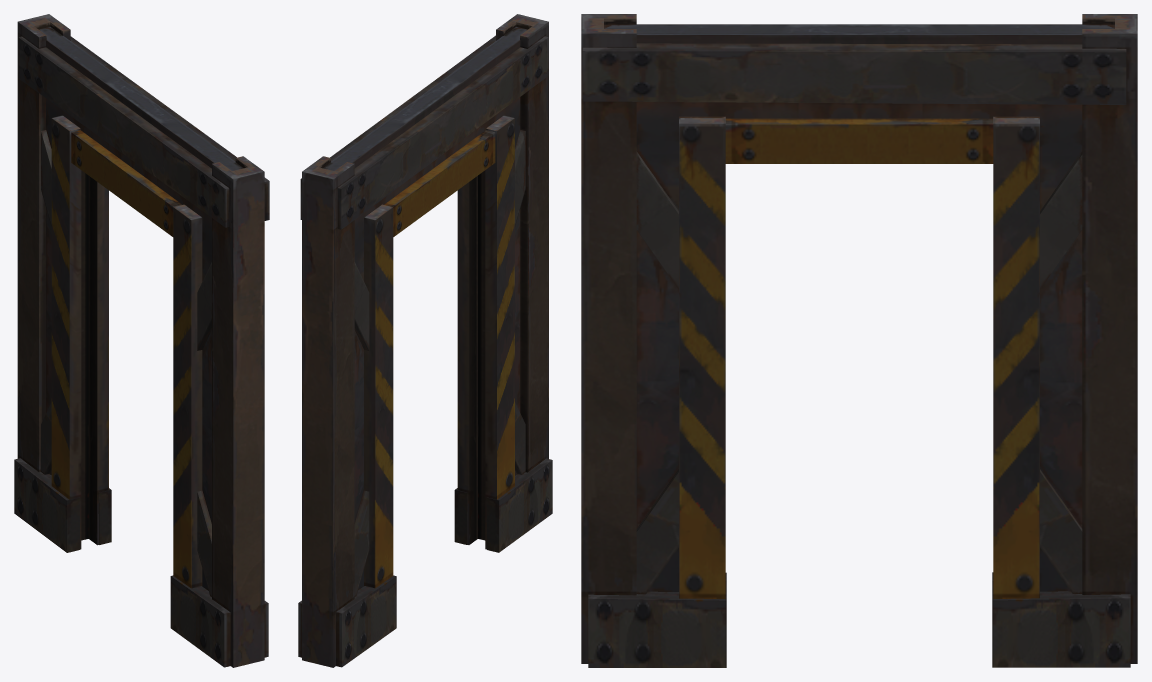
File: Door03_w.FBX
3 views of the same model, side by side, from view 1: azimuth 30°, elevation 25°; view 2: azimuth 150°, elevation 25°; view 3: azimuth 270°, elevation 25° (orthographic). The views are drawn at different scales.
Visible parts, largest first — view 1: Object001; view 2: Object001; view 3: Object001.
Part boxes in pixels (x1,y1,x2,y2): Object001: (14,14,269,667); Object001: (298,14,552,667); Object001: (581,14,1137,667).
Bounding box in the file's own units: 0.2397 × 2.5 × 2.
Materials: 1 (1 with a texture image).
